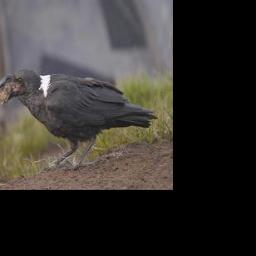Crow: (0, 65, 160, 174)
